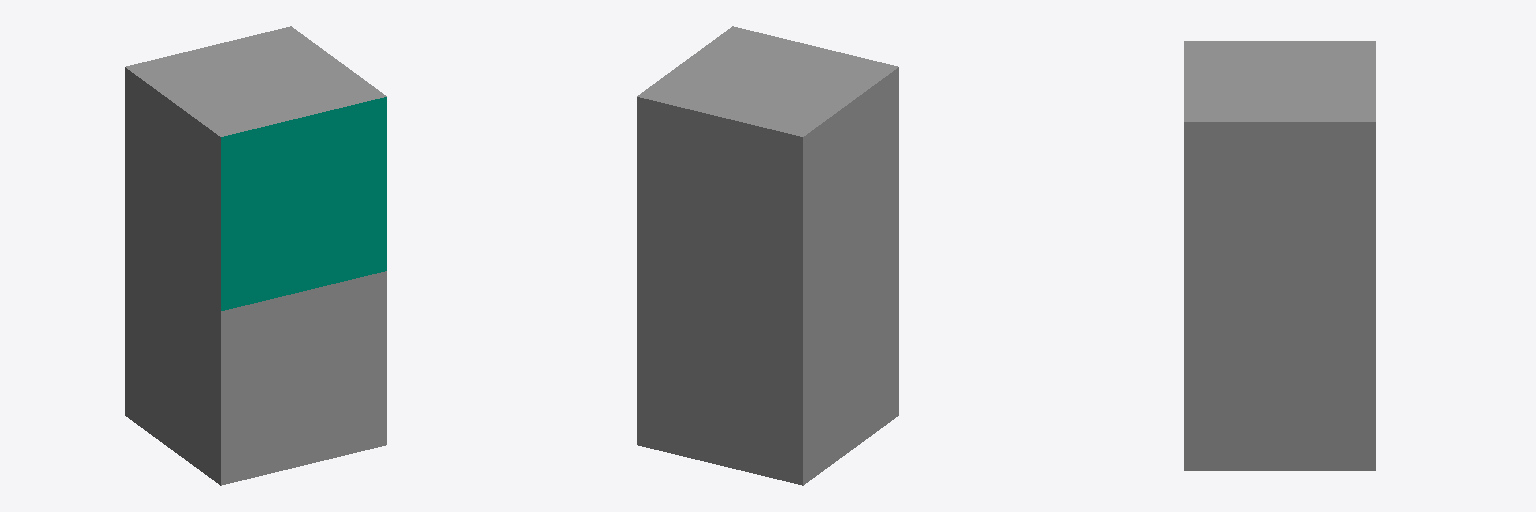
File: player.obj
3 views of the same model, side by side, from view 1: azimuth 30°, elevation 25°; view 2: azimuth 150°, elevation 25°; view 3: azimuth 270°, elevation 25° (orthographic).
Visible parts, largest first — view 1: Cube; view 2: Cube; view 3: Cube.
Part boxes in pixels (x1,y1,x2,y2): Cube: (125, 26, 386, 485); Cube: (637, 26, 898, 485); Cube: (1184, 41, 1375, 470).
Bounding box in the file's own units: 2 × 4 × 2.